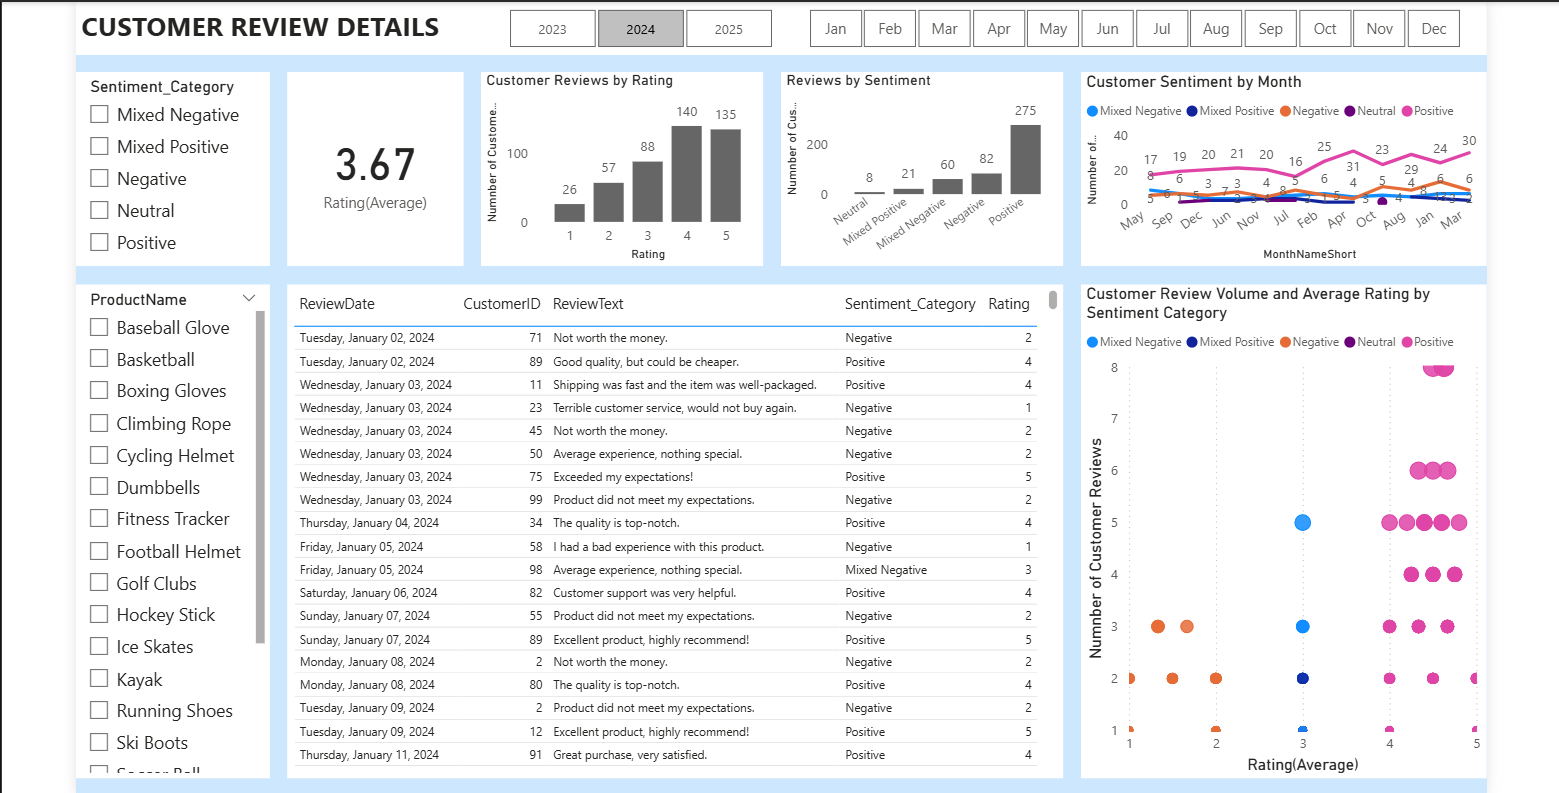

What the dashboard file says about the page in this screenshot:
{"tool":"powerbi","page":{"name":"CUSTOMER REVIEW DETAILS","canvas":[1280,720],"ordinal":3},"visuals":[{"type":"textbox","box":[0,0,1280,48],"z":0},{"type":"slicer","fields":{"Values":["dim_products.ProductName"]},"box":[0,256,176,448],"z":1000},{"type":"card","fields":{"Values":["Calculations.Rating(Average)"]},"box":[192,64,160,176],"z":2000},{"type":"slicer","fields":{"Values":["Calender.Year"]},"box":[368,0,288,48],"z":3000},{"type":"slicer","fields":{"Values":["Calender.MonthNameShort"]},"box":[640,0,640,48],"z":4000},{"type":"clusteredColumnChart","title":"Customer Reviews by Rating","fields":{"Category":["fact_Customer_Reviews_With_Sentiments.Rating"],"Y":["Calculations.Numnber of Customer Reviews"]},"box":[368,64,256,176],"z":5000},{"type":"clusteredColumnChart","title":"Reviews by Sentiment","fields":{"Y":["Calculations.Numnber of Customer Reviews"],"Category":["fact_Customer_Reviews_With_Sentiments.Sentiment_Category"]},"box":[640,64,256,176],"z":6000},{"type":"lineChart","title":"Customer Sentiment by Month","fields":{"Category":["Calender.MonthNameShort"],"Y":["Calculations.Numnber of Customer Reviews"],"Series":["fact_Customer_Reviews_With_Sentiments.Sentiment_Category"]},"box":[912,64,368,176],"z":7000},{"type":"tableEx","fields":{"Values":["fact_Customer_Reviews_With_Sentiments.ReviewDate","fact_Customer_Reviews_With_Sentiments.CustomerID","fact_Customer_Reviews_With_Sentiments.ReviewText","fact_Customer_Reviews_With_Sentiments.Sentiment_Category","fact_Customer_Reviews_With_Sentiments.Rating"]},"box":[192,256,704,448],"z":8000},{"type":"scatterChart","title":"Customer Review Volume and Average Rating by Sentiment Category","fields":{"X":["Calculations.Rating(Average)"],"Y":["Calculations.Numnber of Customer Reviews"],"Series":["fact_Customer_Reviews_With_Sentiments.Sentiment_Category"],"Category":["fact_Customer_Reviews_With_Sentiments.CustomerID"],"Size":["Calculations.Numnber of Customer Reviews"]},"box":[912,256,368,448],"z":9000},{"type":"slicer","fields":{"Values":["fact_Customer_Reviews_With_Sentiments.Sentiment_Category"]},"box":[0,64,176,176],"z":10000}]}

Visuals, with their boxes on the page's 1280x720 design canvas (x1, y1, x2, y2). These are canvas units, not pixel positions in the 1559x793 screenshot, which may show the page scaled, cropped or inside an application window:
textbox: 0:0:1280:48
slicer - dim_products.ProductName: 0:256:176:704
card - Calculations.Rating(Average): 192:64:352:240
slicer - Calender.Year: 368:0:656:48
slicer - Calender.MonthNameShort: 640:0:1280:48
"Customer Reviews by Rating" clusteredColumnChart: 368:64:624:240
"Reviews by Sentiment" clusteredColumnChart: 640:64:896:240
"Customer Sentiment by Month" lineChart: 912:64:1280:240
tableEx - fact_Customer_Reviews_With_Sentiments.ReviewDate x fact_Customer_Reviews_With_Sentiments.CustomerID: 192:256:896:704
"Customer Review Volume and Average Rating by Sentiment Category" scatterChart: 912:256:1280:704
slicer - fact_Customer_Reviews_With_Sentiments.Sentiment_Category: 0:64:176:240
